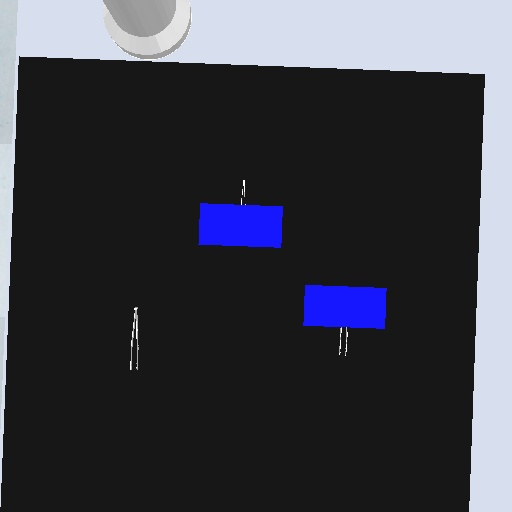pinza: (127, 303, 142, 374), (337, 325, 350, 357), (240, 177, 248, 209)
